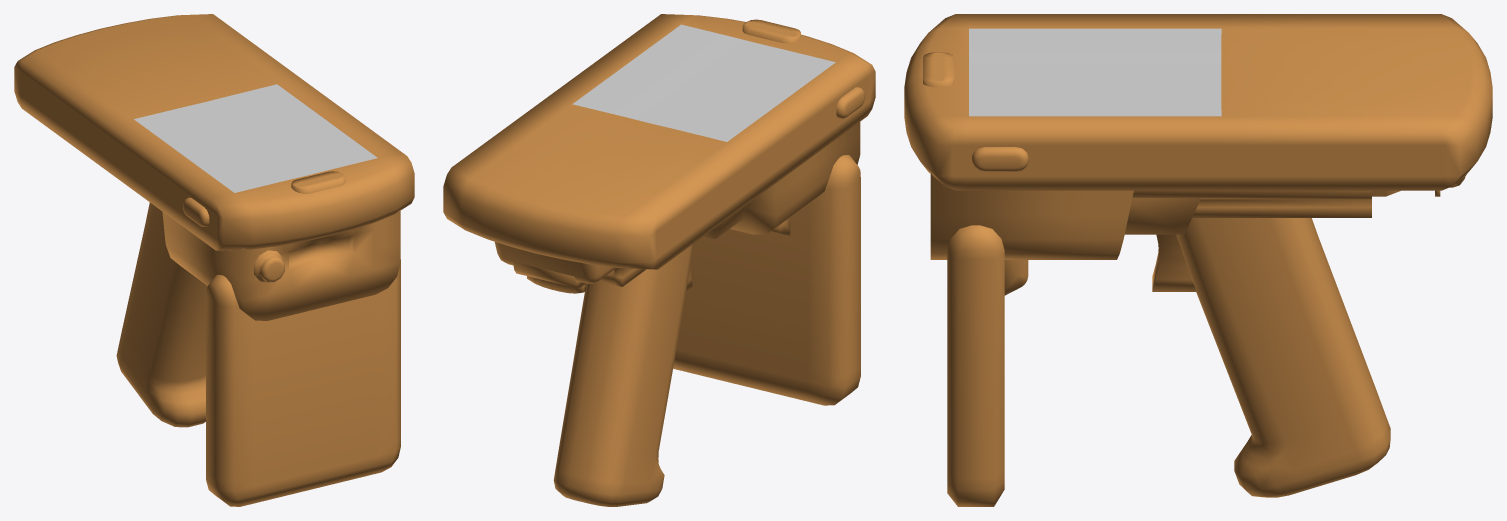
Rendered from RFD_Reader.fbx.
3 views of the same model, side by side, from view 1: azimuth 30°, elevation 25°; view 2: azimuth 150°, elevation 25°; view 3: azimuth 270°, elevation 25° (orthographic). The views are drawn at different scales.
Visible parts, largest first — view 1: RFD_reader; view 2: RFD_reader; view 3: RFD_reader.
Part boxes in pixels (x1=…): RFD_reader: x1=14, y1=14, x2=414, y2=506; RFD_reader: x1=443, y1=14, x2=875, y2=506; RFD_reader: x1=904, y1=14, x2=1492, y2=506.
Size of the model in its own units: 8.88 by 14.08 by 17.77.
